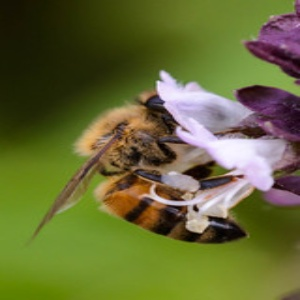bee: (24, 90, 253, 268)
